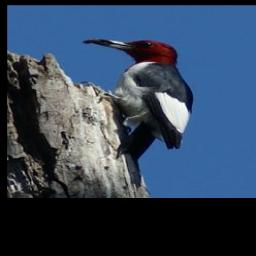Woodpecker: (84, 38, 194, 188)
